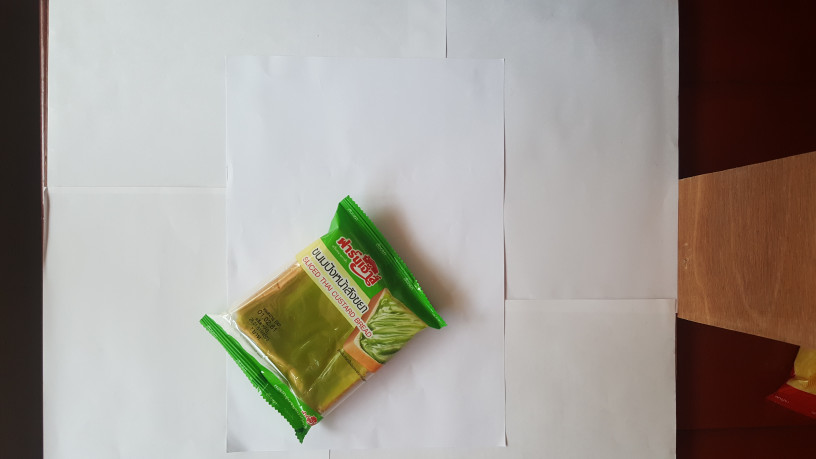farmhouse-bread-pandan: (195, 198, 449, 448)
